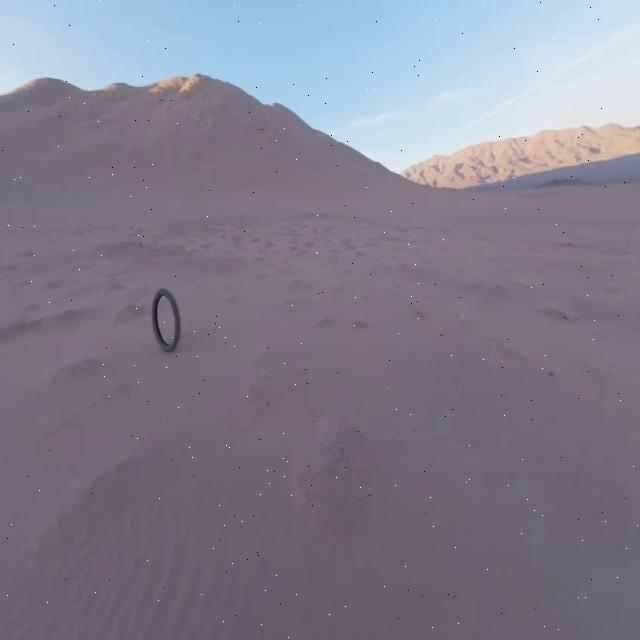Tire: (152, 289, 180, 352)
